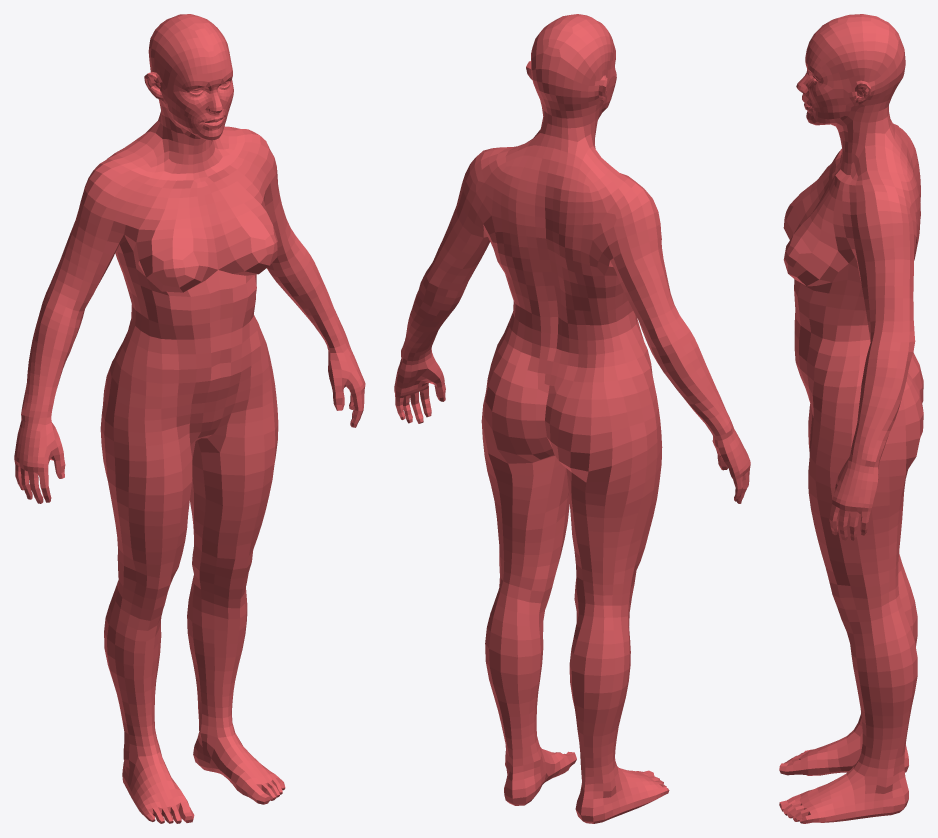
File: femaleMuscular.glb
The picture shows the model from 3 angles, left to right: view 1: azimuth 30°, elevation 25°; view 2: azimuth 150°, elevation 25°; view 3: azimuth 270°, elevation 25°; orthographic projection.
Visible parts, largest first — view 1: muscular; view 2: muscular; view 3: muscular.
Part boxes in pixels (x1,y1,x2,y2): muscular: [14, 14, 365, 823]; muscular: [394, 14, 750, 823]; muscular: [779, 14, 923, 823].
Size of the model in its own units: 31.7 by 68.01 by 11.46.
